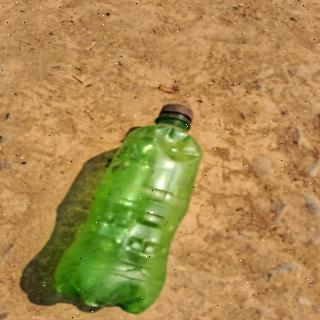Plastic-bottle: (39, 94, 222, 320)
